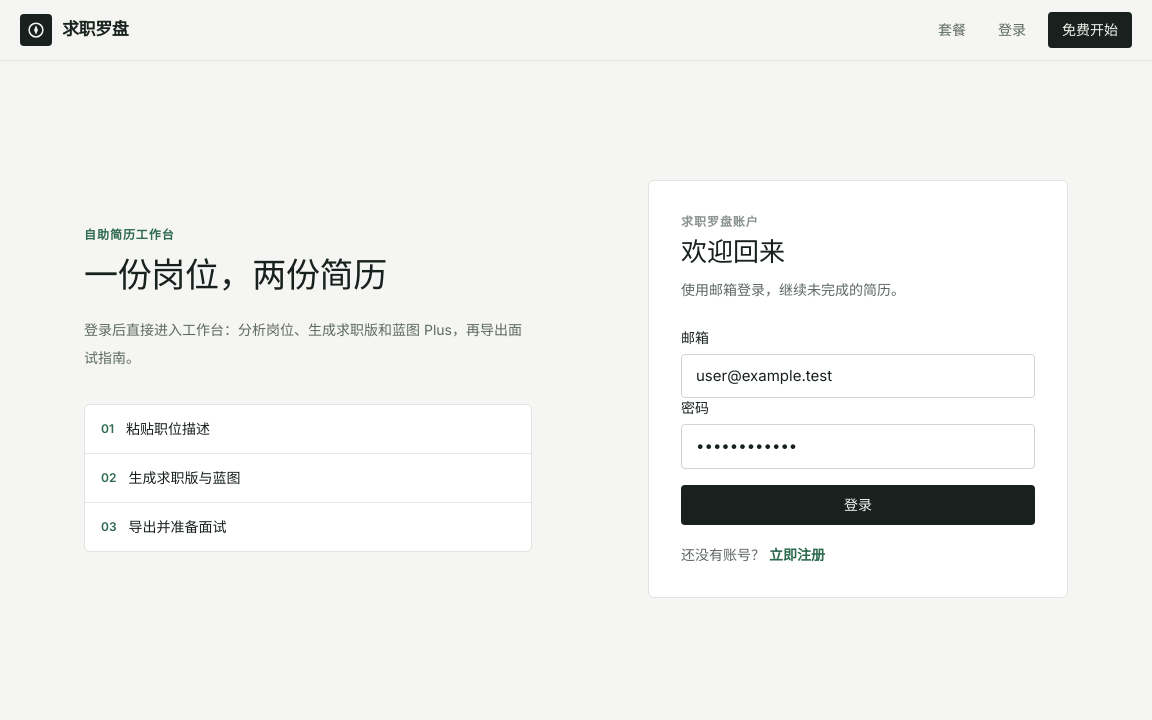
登录表单校验中文错误
The width and height of the screenshot is (1152, 720).
Replace the text in the field labelled "邮箱" with "bad" at (858, 376), box x1=681 y1=354 x2=1035 y2=398
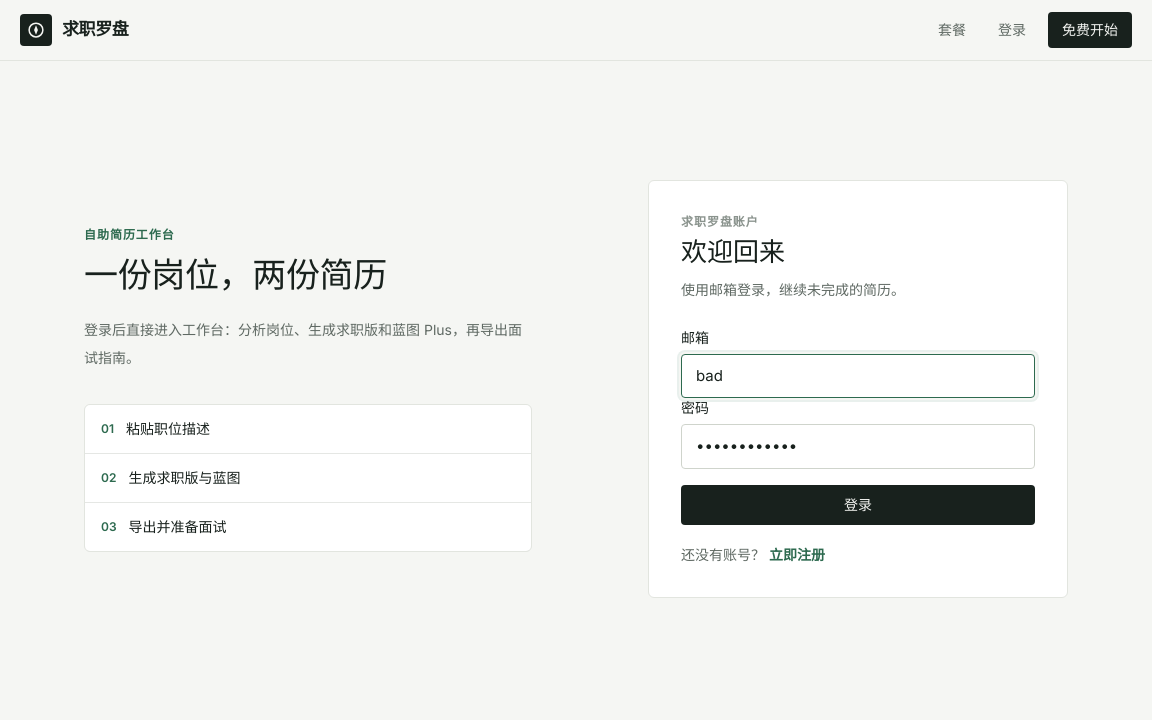
Click the button "登录" at (858, 505), box x1=681 y1=485 x2=1035 y2=525
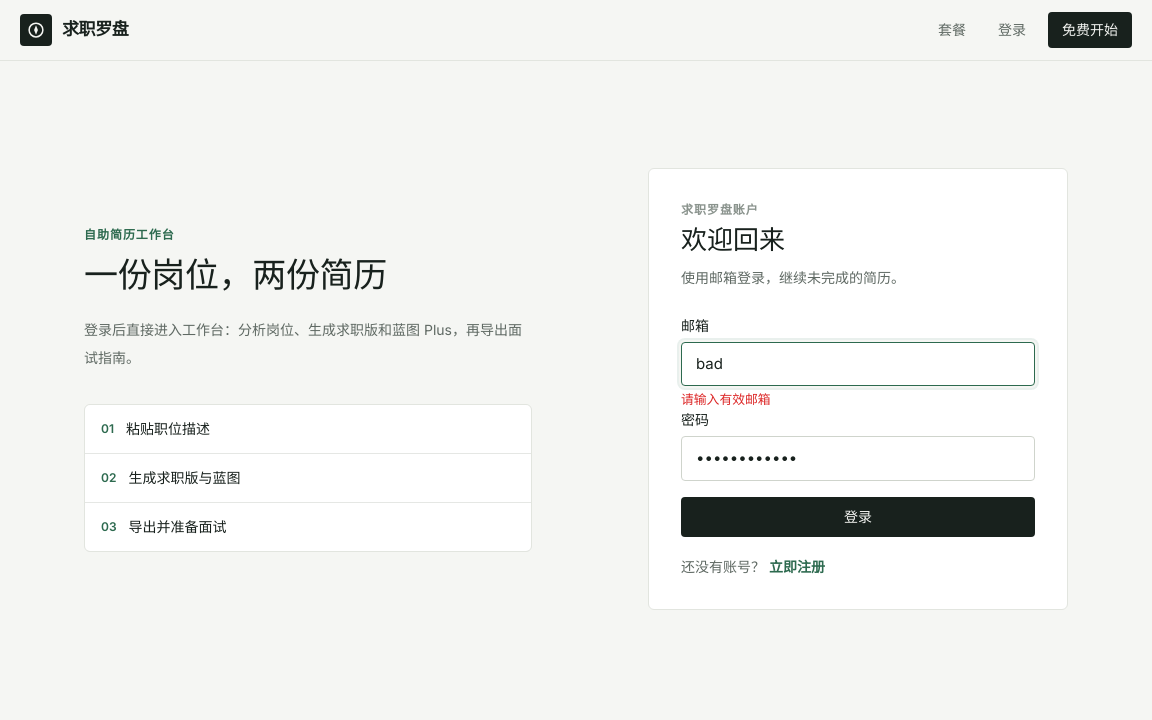
Now the text "请输入有效邮箱" is shown, box x1=681 y1=392 x2=771 y2=407
